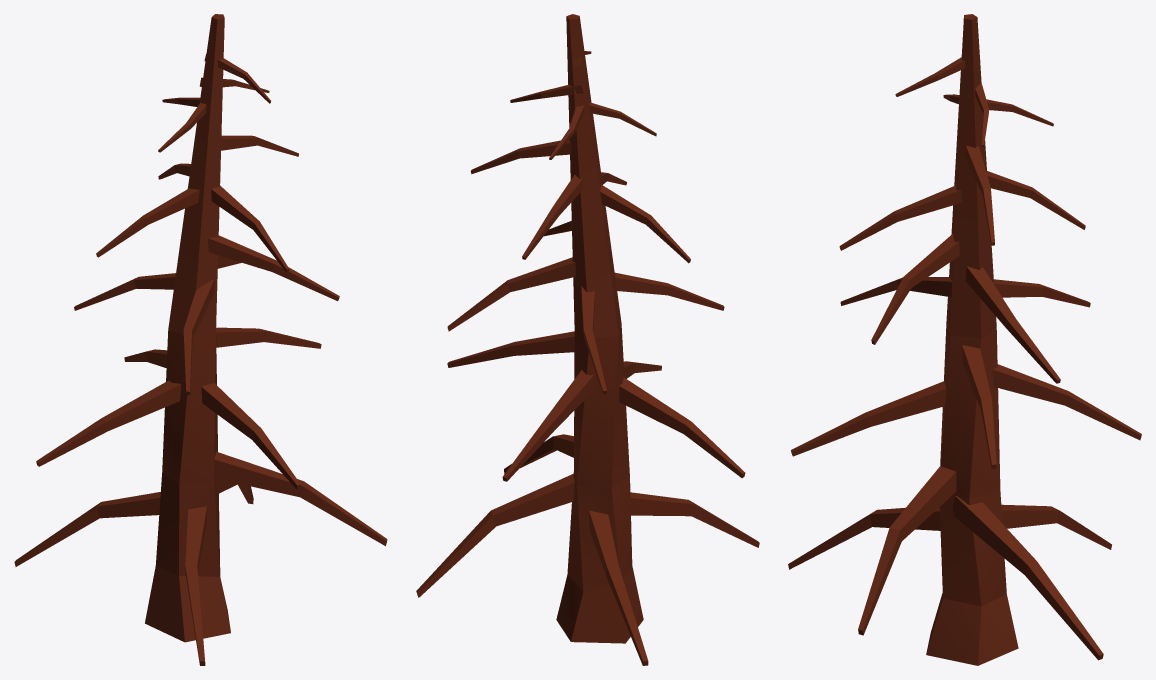
The model's file is DeadPine.dae.
3 views of the same model, side by side, from view 1: azimuth 30°, elevation 25°; view 2: azimuth 150°, elevation 25°; view 3: azimuth 270°, elevation 25° (orthographic). The views are drawn at different scales.
Parts seen in each view (by area): view 1: DeadSpruce3; view 2: DeadSpruce3; view 3: DeadSpruce3.
Part boxes in pixels (x1,y1,x2,y2): DeadSpruce3: [14, 14, 387, 665]; DeadSpruce3: [416, 14, 759, 665]; DeadSpruce3: [788, 14, 1141, 665].
Bounding box in the file's own units: 7.03 × 6.83 × 13.68.
